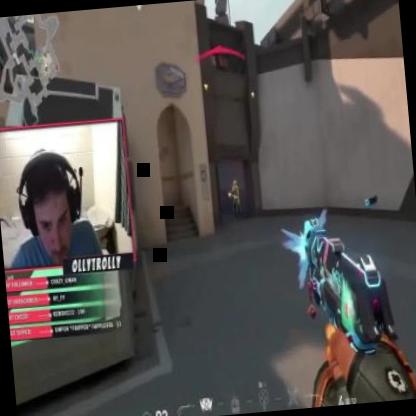enemy: (230, 179, 244, 219)
enemy_head: (233, 179, 237, 188)
